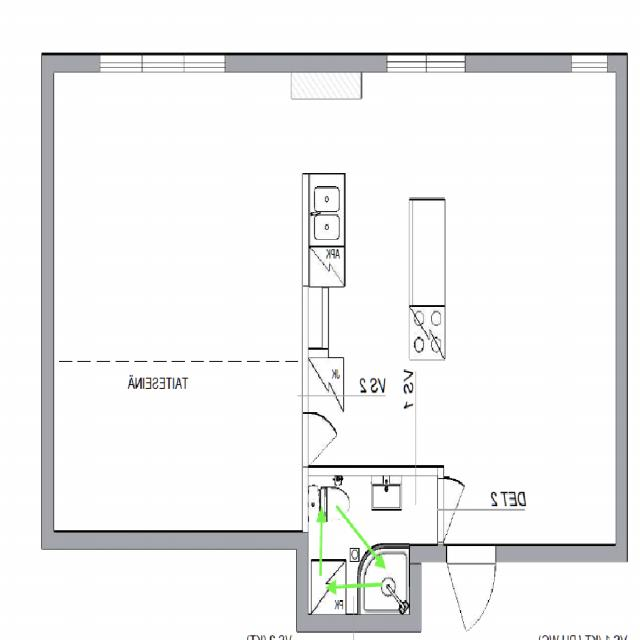door: (447, 544, 496, 638), (407, 452, 461, 534), (302, 413, 342, 464)
